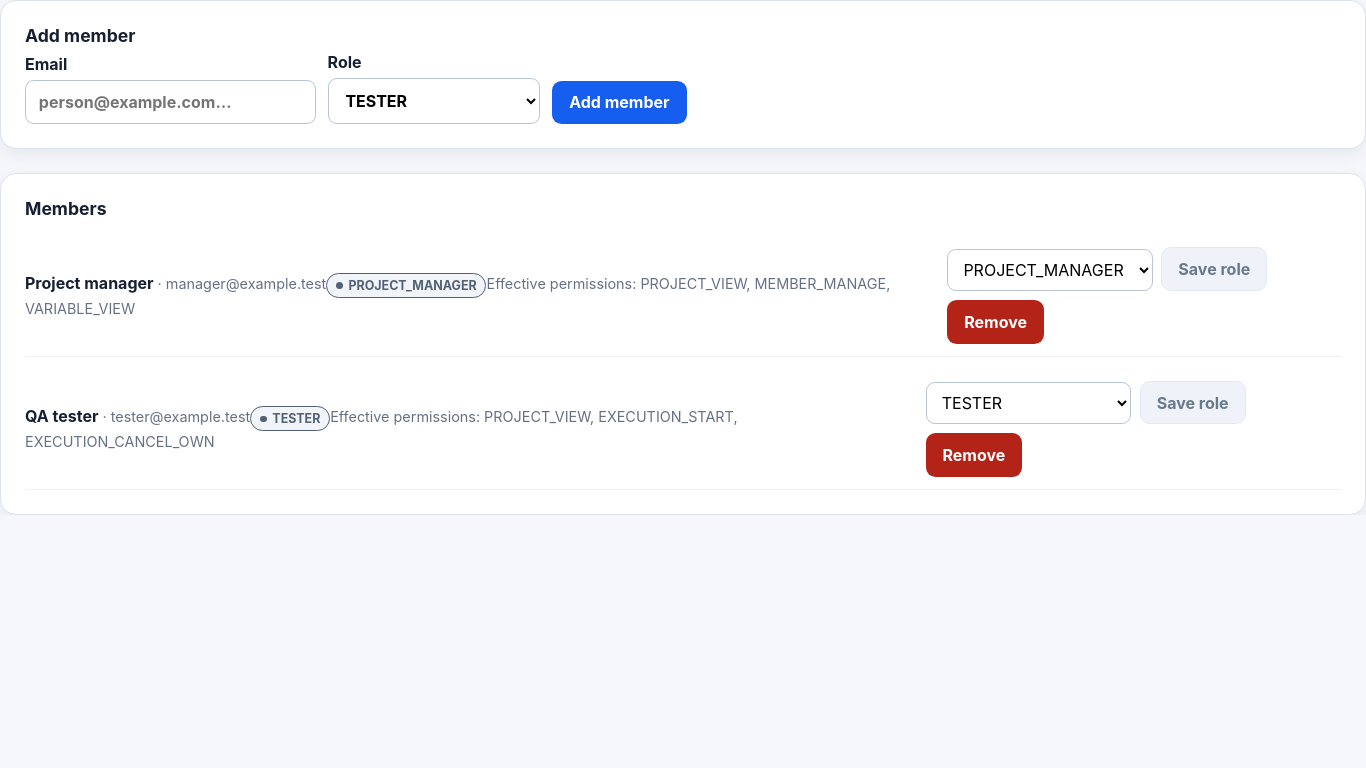
MembersPage › refreshes membership data after a stale-version mutation failure
The image size is (1366, 768).
Select "VIEWER" in the dropdown named "Role for QA tester" at (1028, 403), box x1=926 y1=382 x2=1131 y2=424
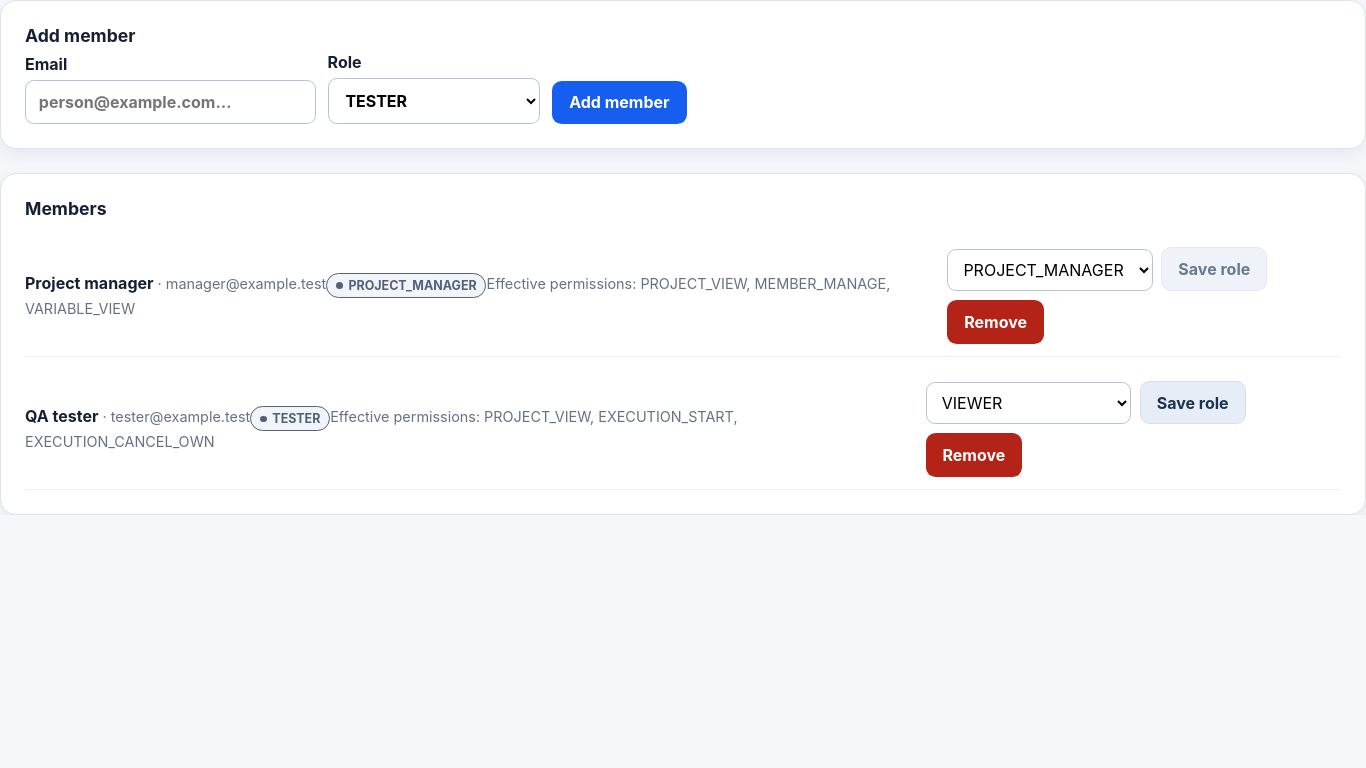
Click the button "Save role" in the row of "QA tester" at (1193, 403), box x1=1140 y1=381 x2=1246 y2=424
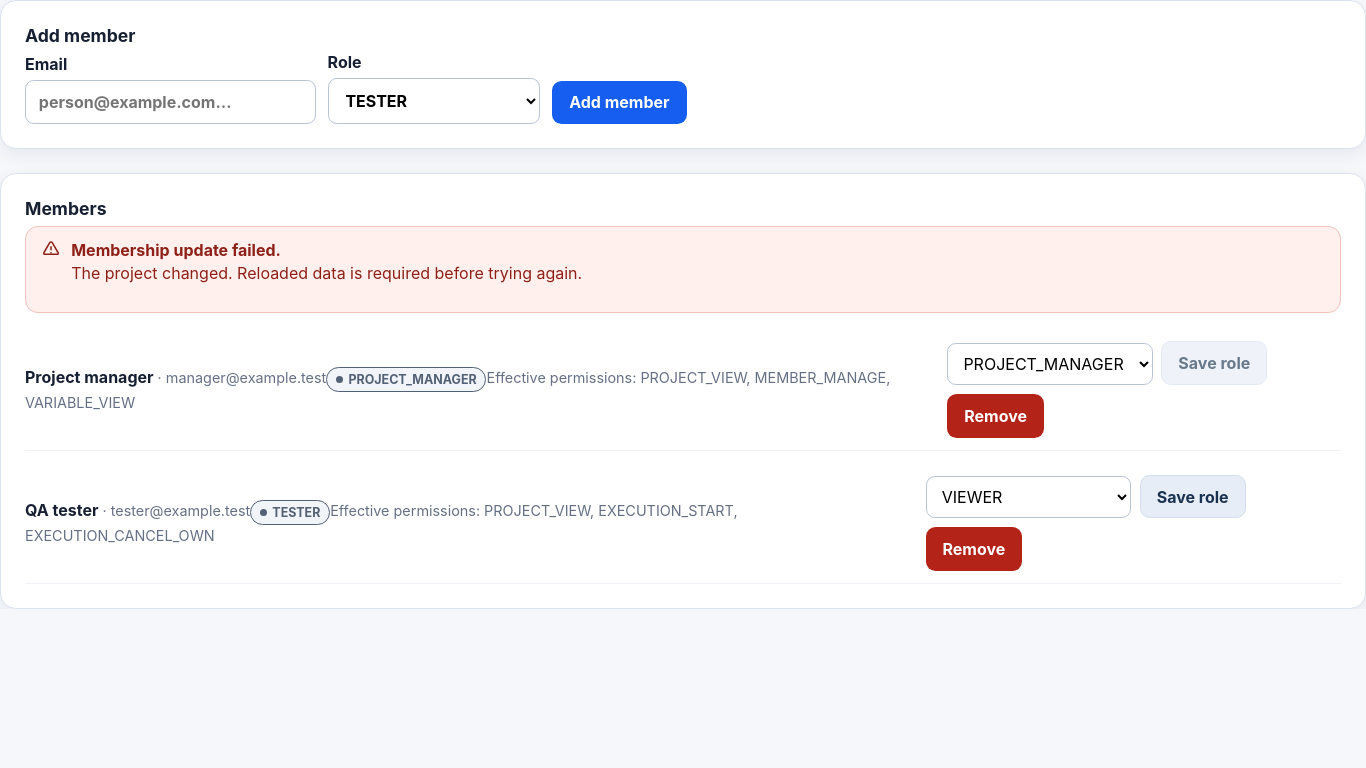
Check: the text "The project changed. Reloaded data is required before trying again." is shown, box x1=71 y1=263 x2=582 y2=283
